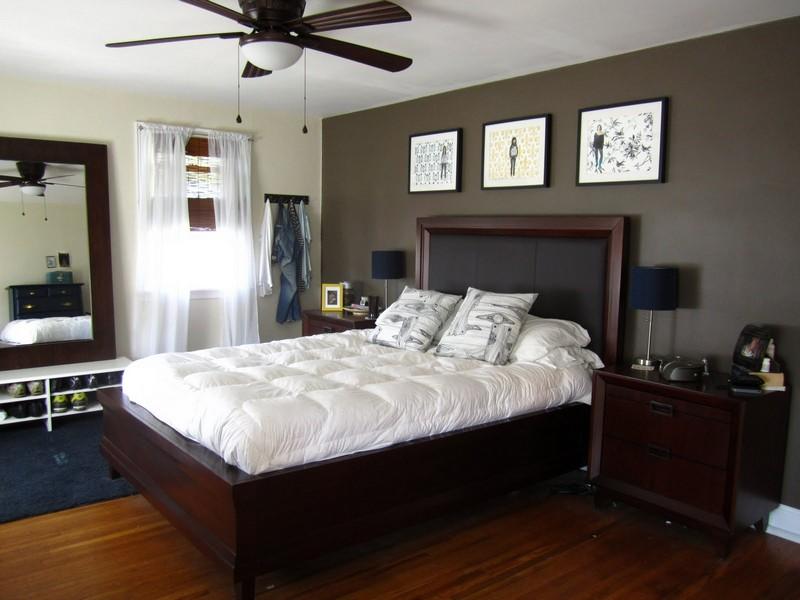bed: (107, 213, 623, 552)
lamp: (625, 255, 683, 384), (368, 248, 416, 312)
stool: (598, 363, 784, 544)
